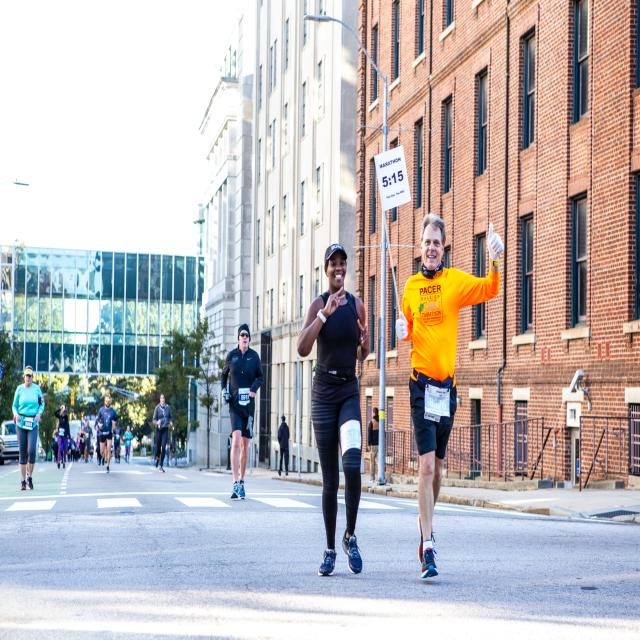running: (398, 212, 506, 581), (294, 242, 376, 583), (217, 314, 265, 506), (12, 364, 50, 493), (148, 390, 181, 472)
